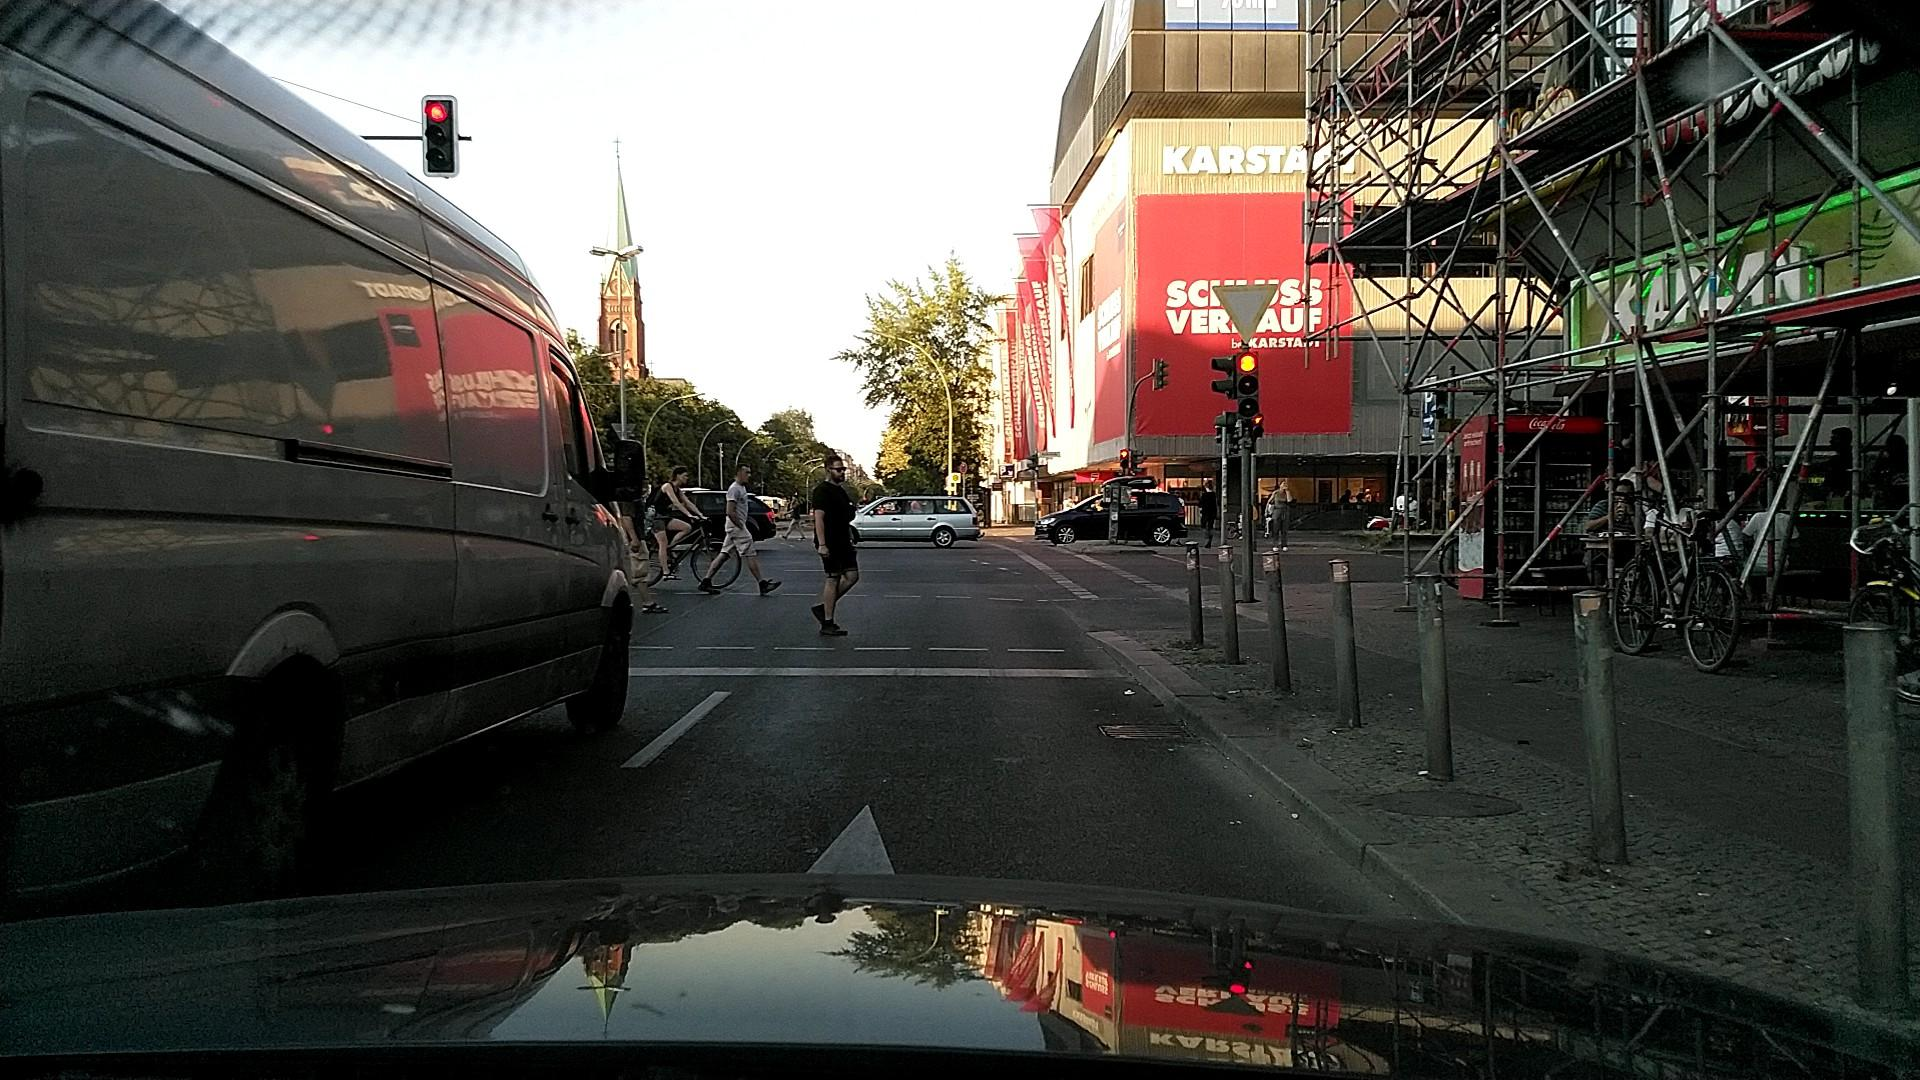Human face: (822, 454, 847, 485), (1615, 479, 1633, 506), (734, 463, 752, 486), (671, 466, 690, 487), (1279, 479, 1288, 490)
